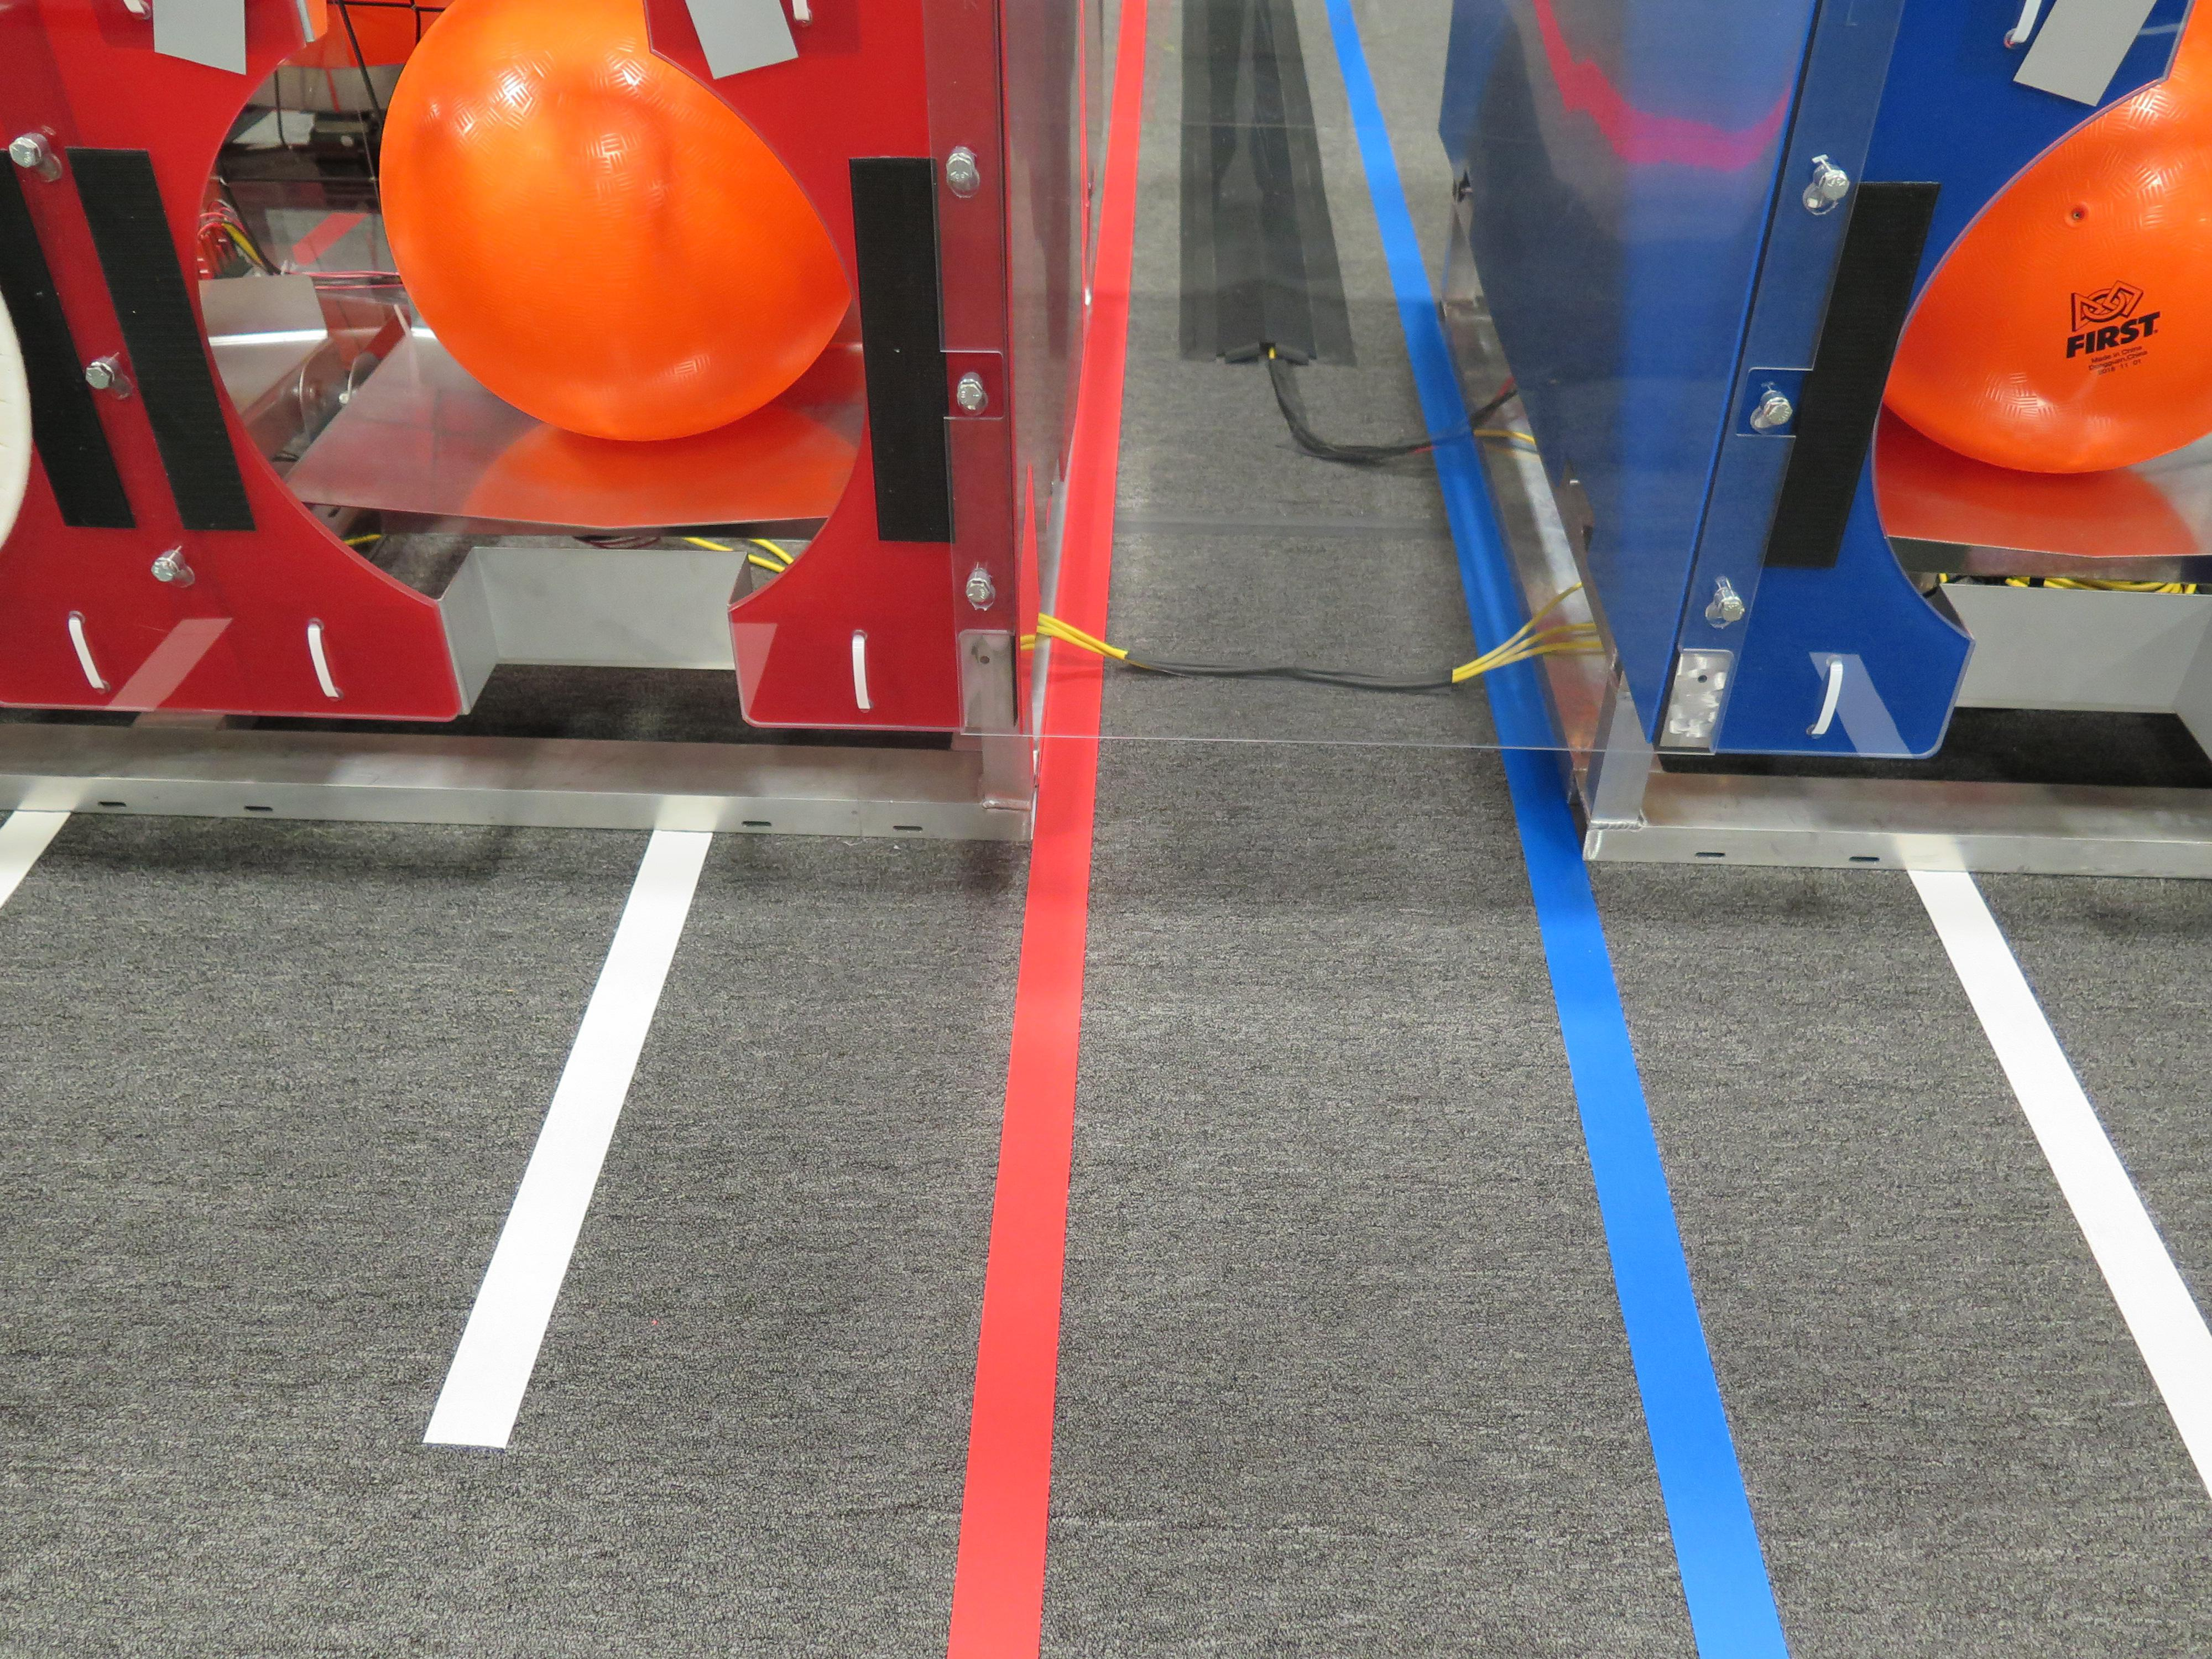Ball: (378, 0, 855, 444), (1876, 0, 2212, 474)
Tape: (2013, 0, 2160, 106), (676, 0, 799, 85), (150, 0, 256, 82)
